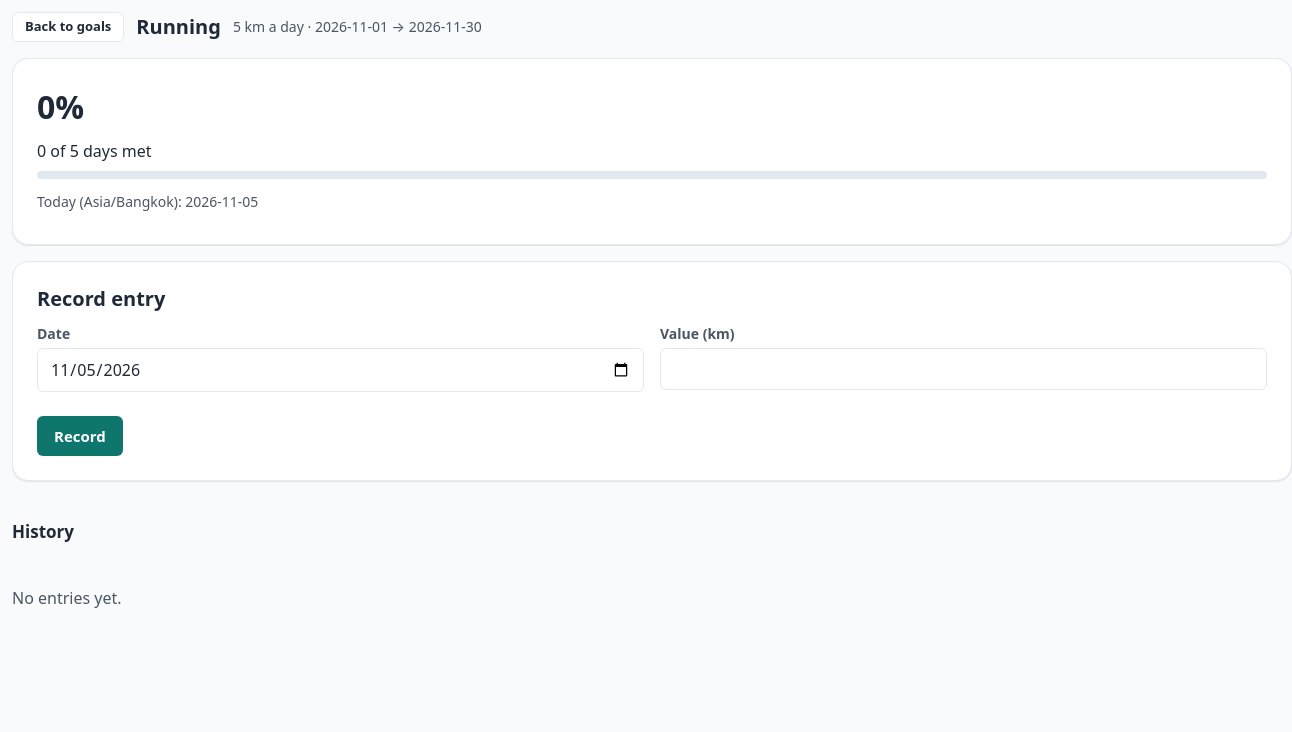
AC-04.21 server errors › TEST-04.21b shows a 400 future-date message verbatim and keeps the form
Expected: the text "0 of 5 days met" is shown, [37, 140, 152, 162]
Type "2026-11-20" into the date field labelled "Date".
click(340, 370); type("2026-11-20")  # box [37, 348, 644, 392]
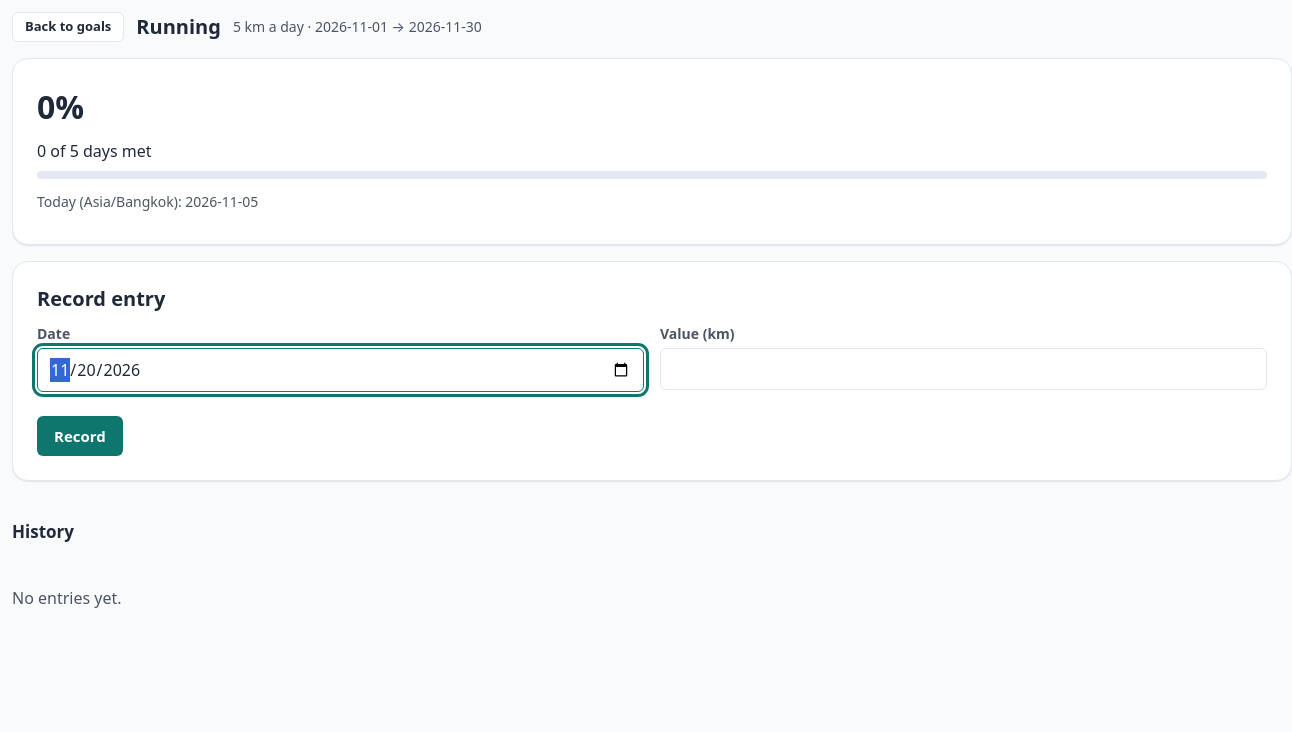
Type "3" into the number field labelled "Value (km)".
click(964, 368); type("3")  # box [660, 348, 1267, 390]
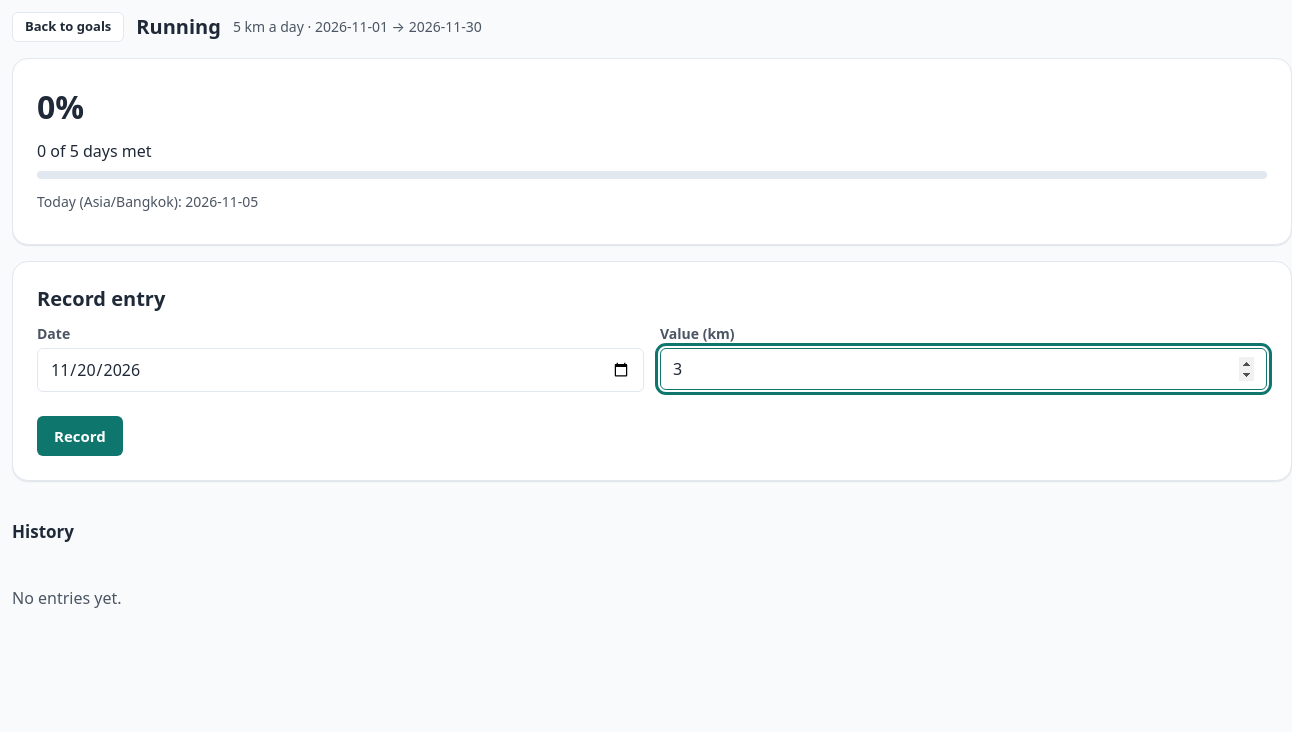
Click the button "Record".
click(80, 436)  # box [37, 416, 123, 456]
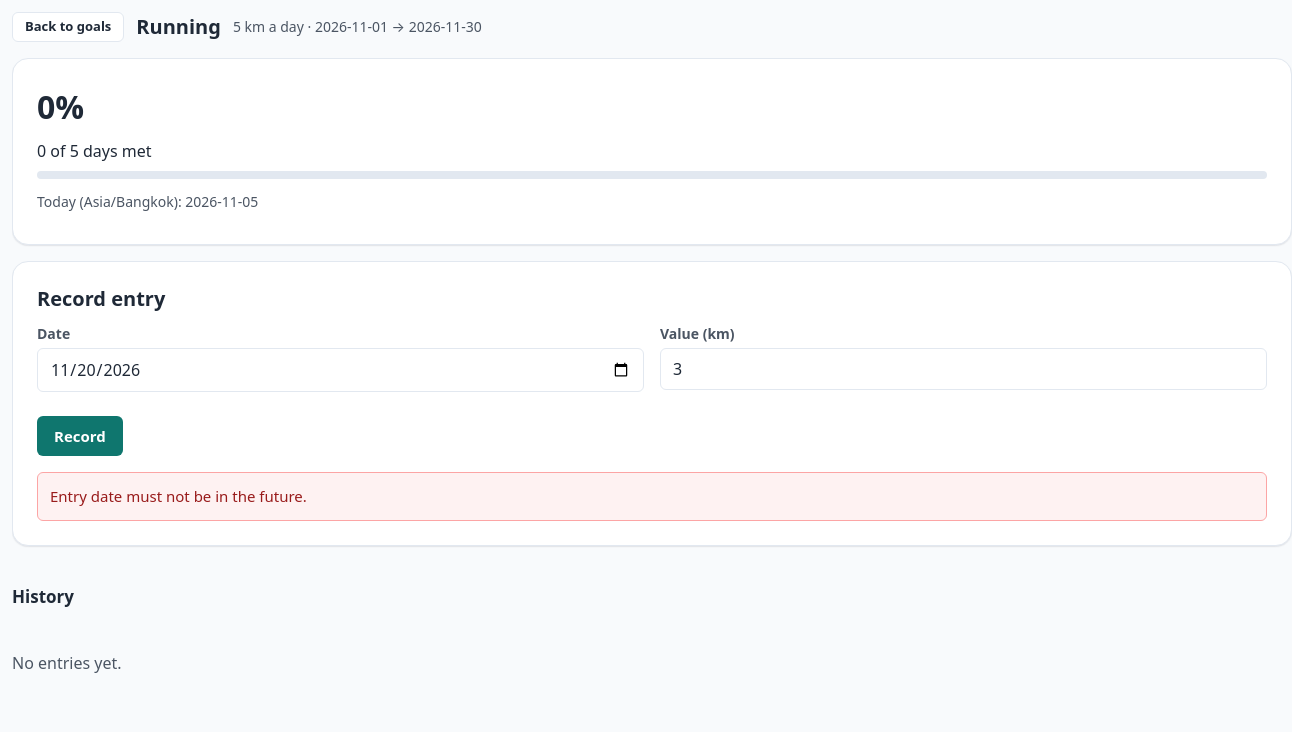
Expected: the text "Entry date must not be in the future." is shown, [37, 472, 1267, 520]
